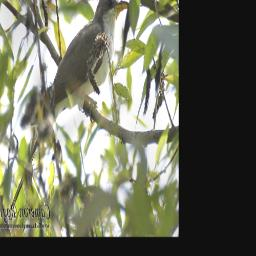Cuckoo: (11, 0, 130, 210)
